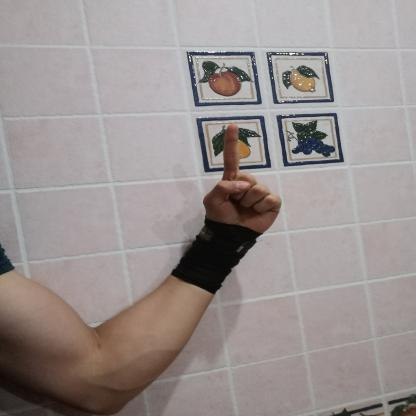BAA: (190, 113, 292, 242)
